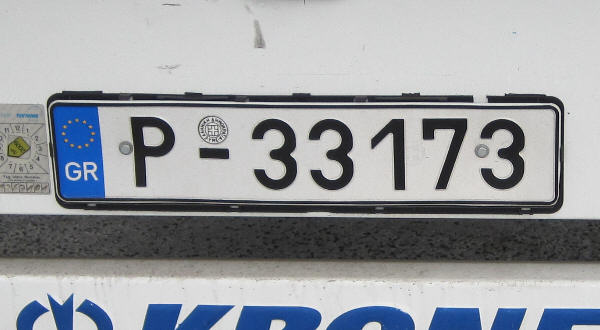license_plate: (48, 100, 558, 207)
